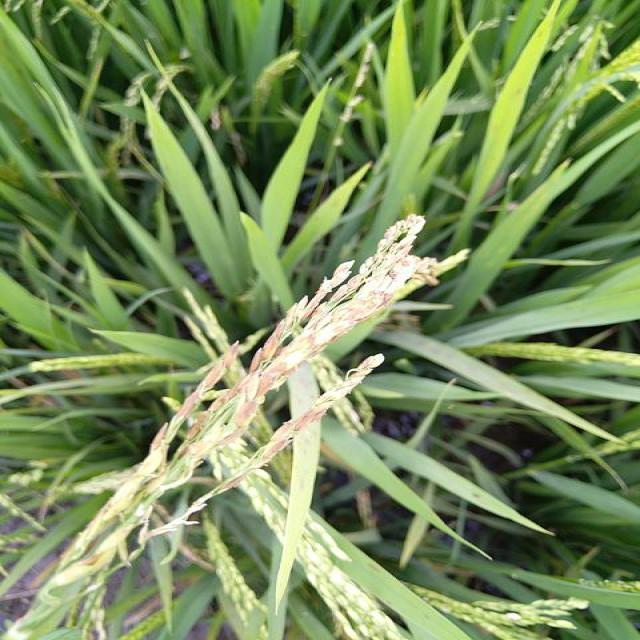Panicle Blight: (187, 214, 439, 448), (141, 341, 239, 474), (217, 406, 331, 493), (57, 504, 123, 588)
